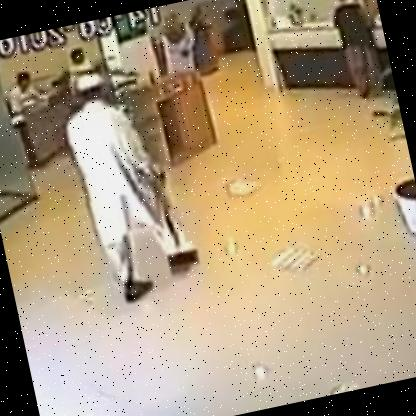person: (45, 51, 216, 316), (318, 0, 393, 107)
